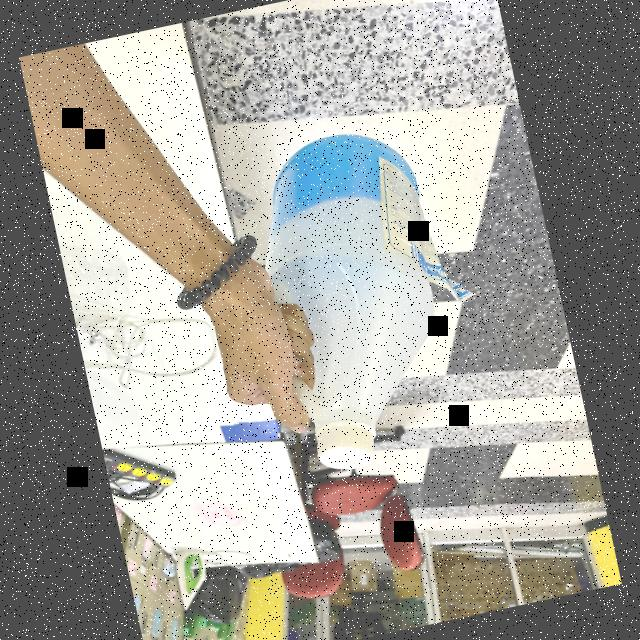chemical_plastic_gallon: (213, 114, 483, 490)
